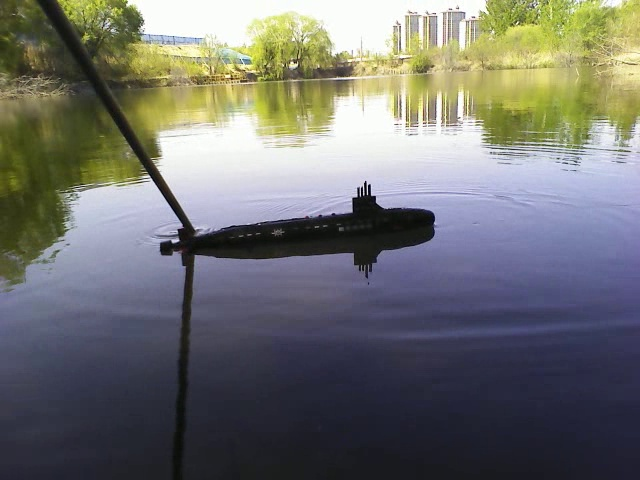submarine: (157, 182, 438, 256)
